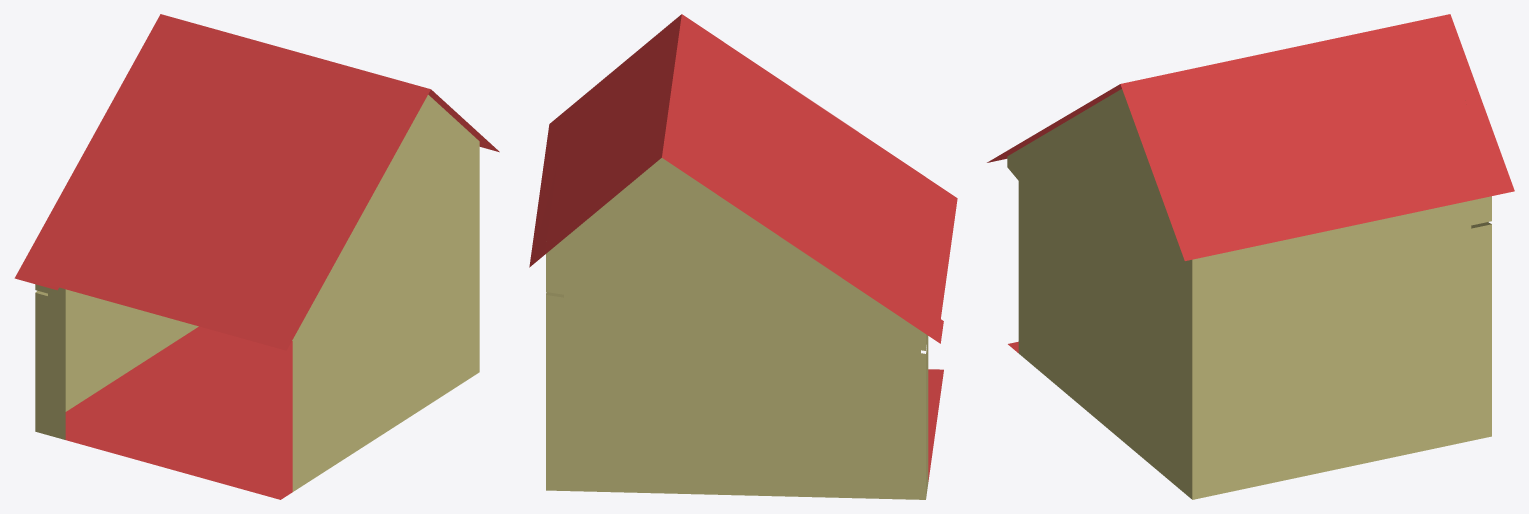
3 renders of one model, left to right at view 1: azimuth 30°, elevation 25°; view 2: azimuth 150°, elevation 25°; view 3: azimuth 270°, elevation 25°, orthographic. The views are drawn at different scales.
Size of the model in its own units: 16.59 by 15.53 by 12.03.
